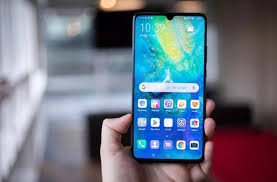huawei: (132, 10, 206, 162)
